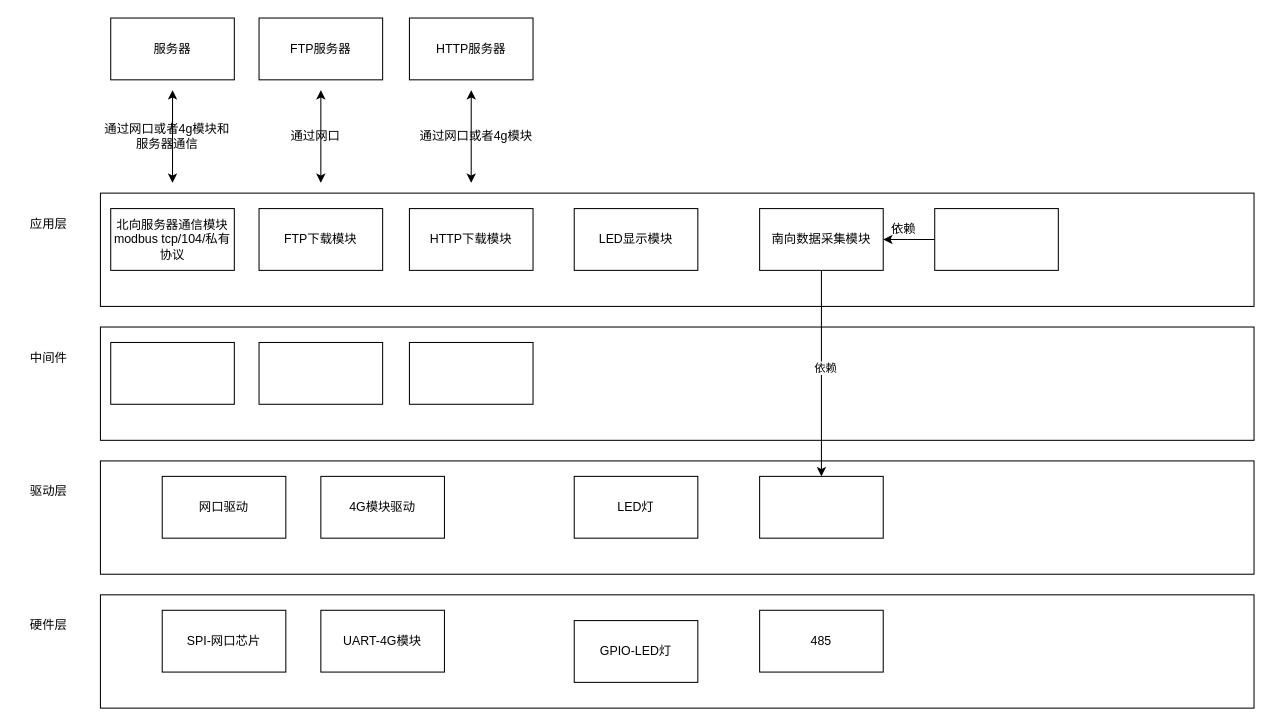
Image size: 1272x726. Some labels were removed from this diagram. Each missing label, with the box of its shape:
485驱动: (759, 475, 883, 538)
EMS功率控制模块: (934, 208, 1058, 270)
